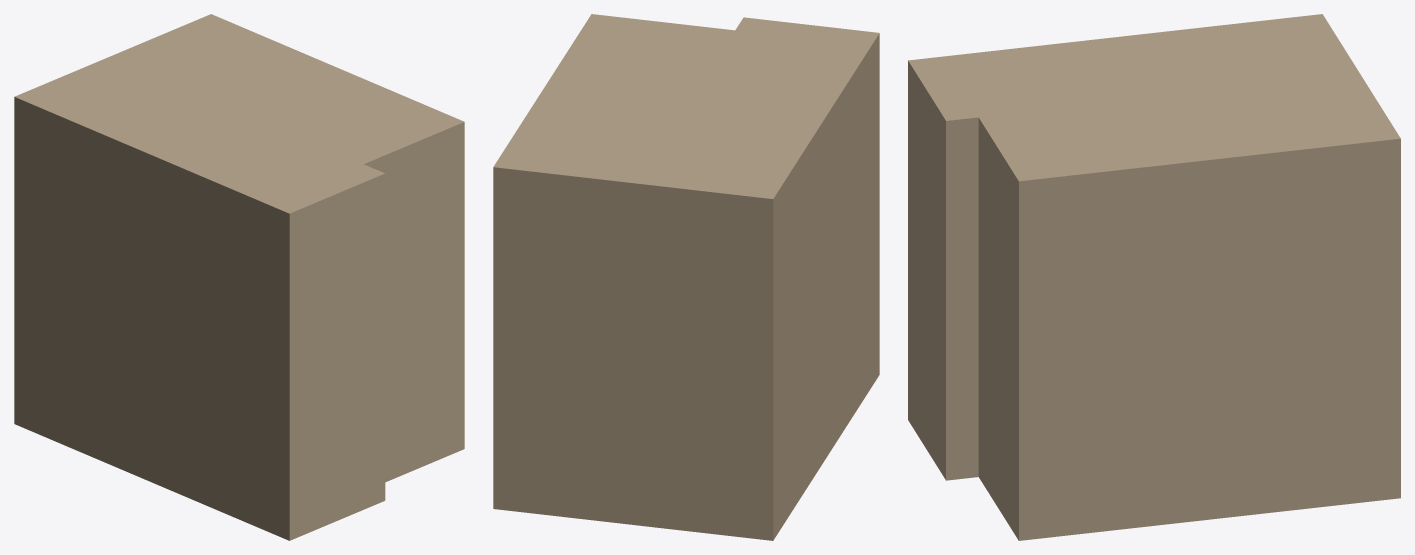
File: bld_106456588.dae
3 views of the same model, side by side, from view 1: azimuth 30°, elevation 25°; view 2: azimuth 150°, elevation 25°; view 3: azimuth 270°, elevation 25° (orthographic). The views are drawn at different scales.
Parts seen in each view (by area): view 1: bld_106456588; view 2: bld_106456588; view 3: bld_106456588.
Boxes of the visible parts, box(x1,y1,x2,y2) form: bld_106456588: box(14, 14, 464, 540); bld_106456588: box(493, 14, 879, 540); bld_106456588: box(908, 14, 1400, 540).
Size of the model in its own units: 7.98 by 9.94 by 8.
